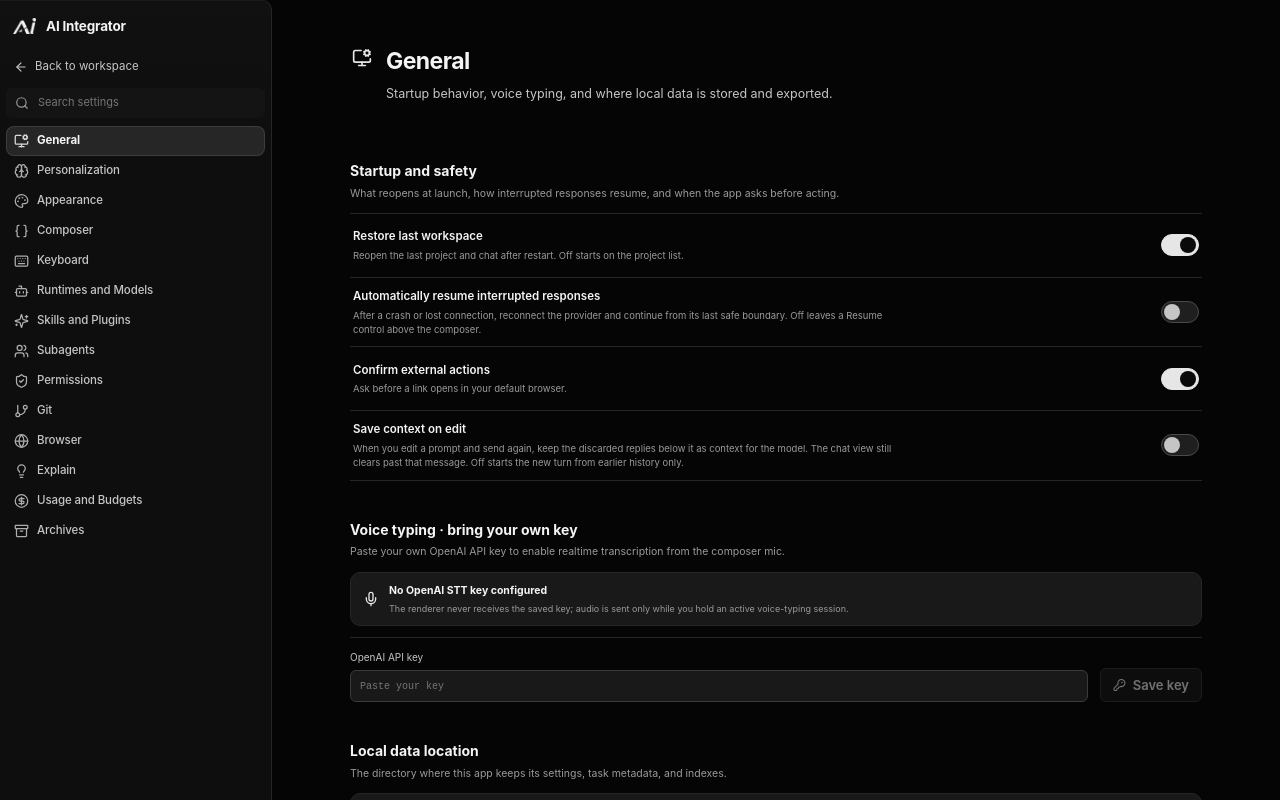
Scenario: Explain settings › shows the natively composed prompt rather than a local imitation
This screenshot has width=1280, height=800.
Click the button "Explain". click: (136, 471)
box: [6,456,265,486]
(page scrolled)
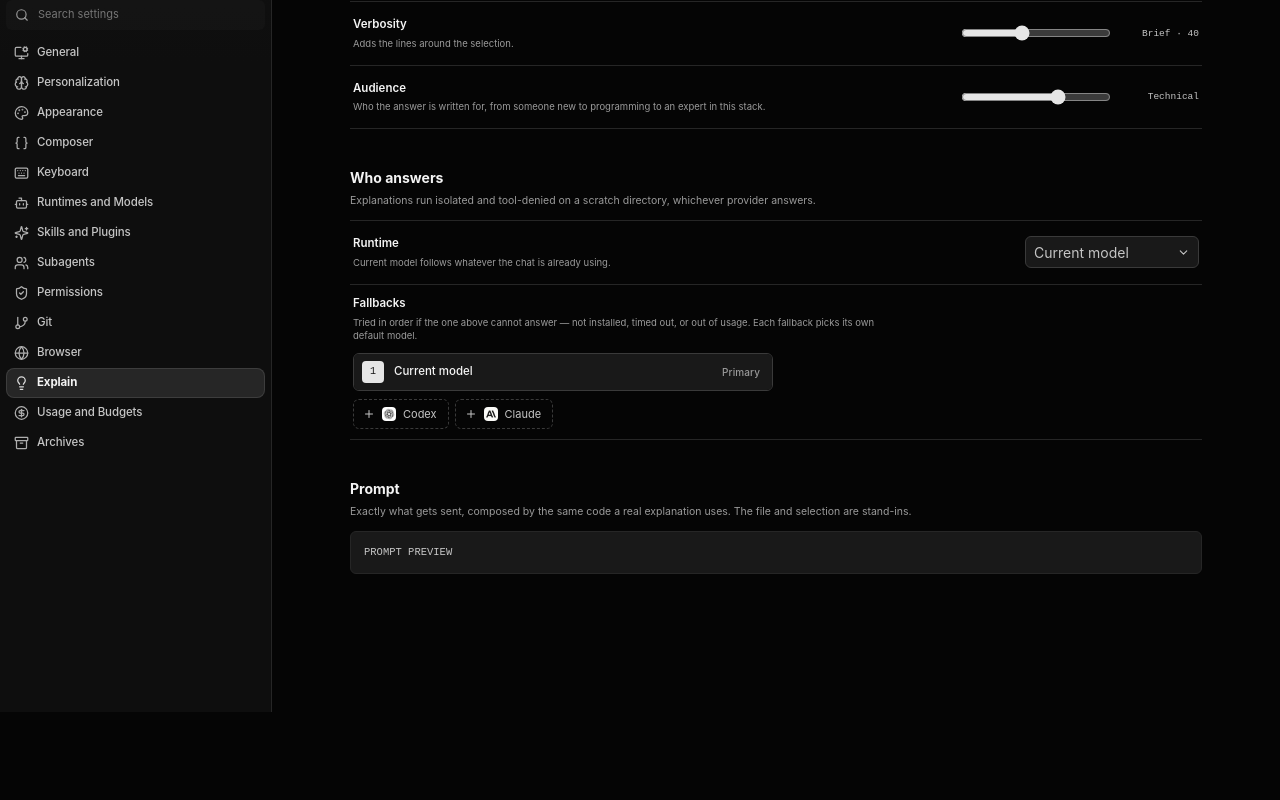
expect the text named "Composed explain prompt" reads "PROMPT PREVIEW": met, box [364,546,452,558]
